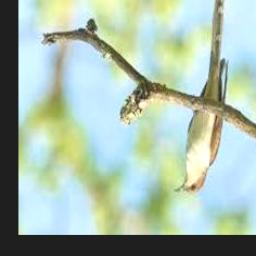Cuckoo: (172, 0, 229, 194)
